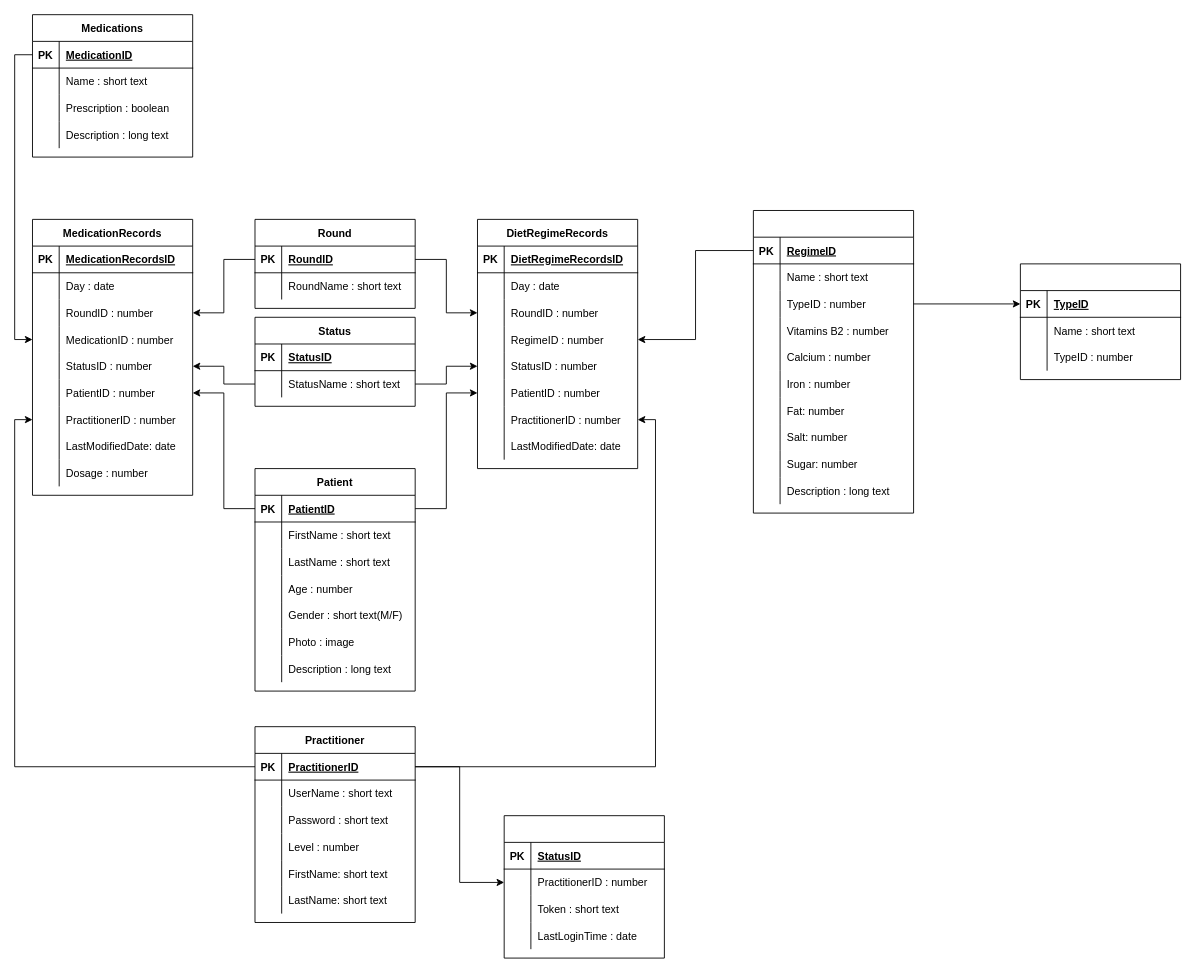
The diagram is 1195 pixels wide and 973 high, and some of its shapes have lost their labels. The box of each missing label's shape, as (x1, y1, x2, y2) in pixels:
DietRegime: (752, 210, 914, 513)
FoodType: (1019, 263, 1181, 380)
LoginStatus: (503, 815, 664, 958)
